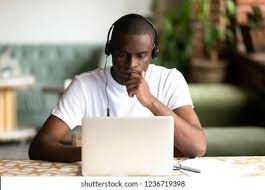listening: (102, 21, 156, 94)
